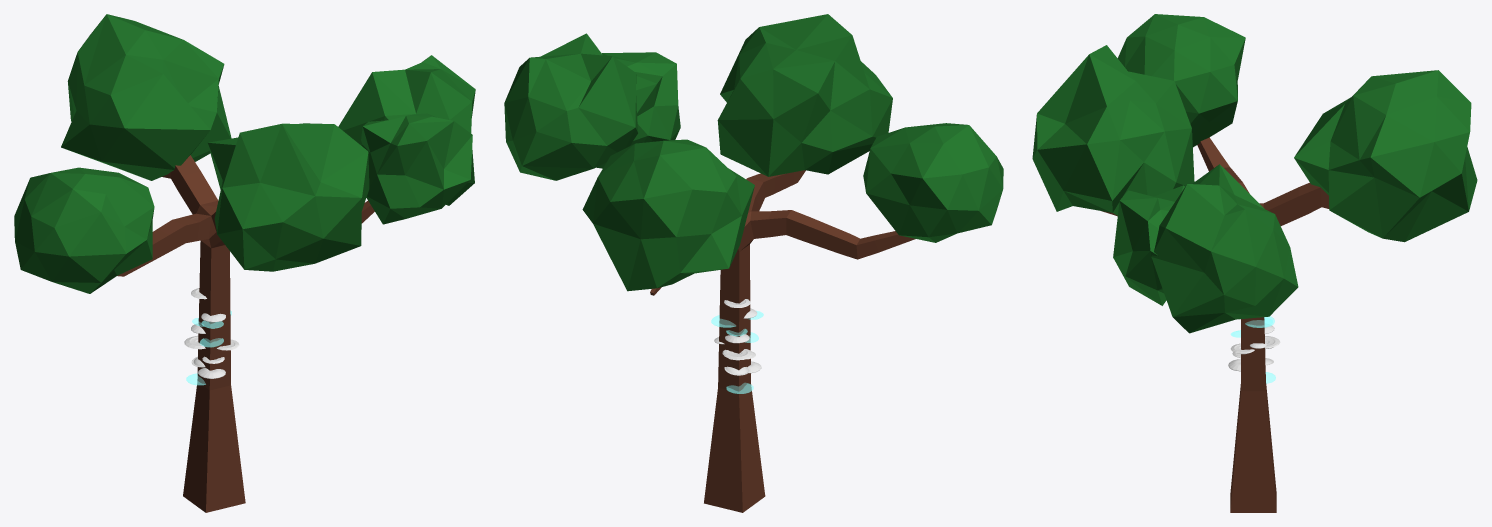
Rendered from small mushroom tree .fbx.
The picture shows the model from 3 angles, left to right: view 1: azimuth 30°, elevation 25°; view 2: azimuth 150°, elevation 25°; view 3: azimuth 270°, elevation 25°; orthographic projection. The views are drawn at different scales.
Visible parts, largest first — view 1: Icosphere, Icosphere.003, Icosphere.004; view 2: Icosphere, Icosphere.003, Icosphere.004; view 3: Icosphere, Icosphere.003, Icosphere.004.
Part boxes in pixels (x1,y1,x2,y2): Icosphere: (61, 14, 369, 512); Icosphere.003: (338, 55, 475, 224); Icosphere.004: (14, 167, 211, 293); Icosphere: (582, 14, 892, 512); Icosphere.003: (504, 33, 680, 180); Icosphere.004: (750, 123, 1003, 259); Icosphere: (1032, 45, 1477, 512); Icosphere.003: (1113, 164, 1298, 333); Icosphere.004: (1117, 14, 1249, 193).
Size of the model in its own units: 145 by 129 by 118.
